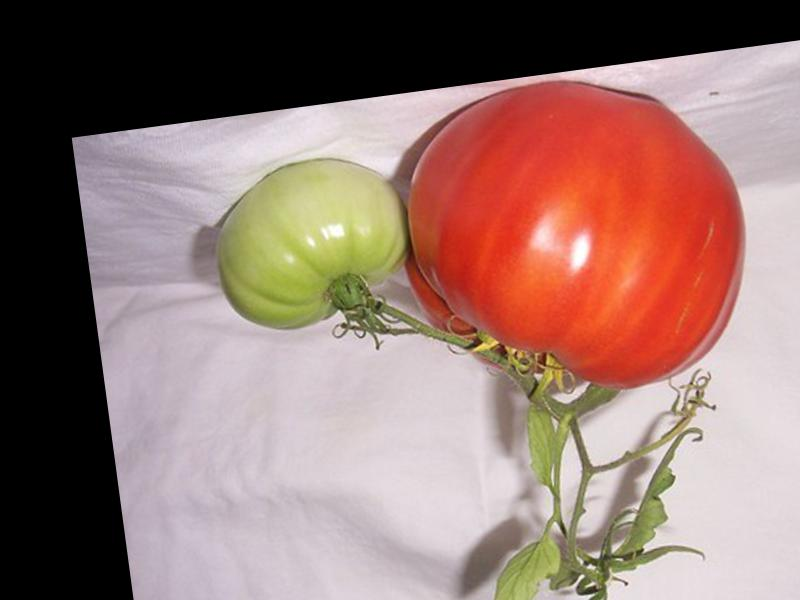Tomato: (383, 61, 764, 416)
